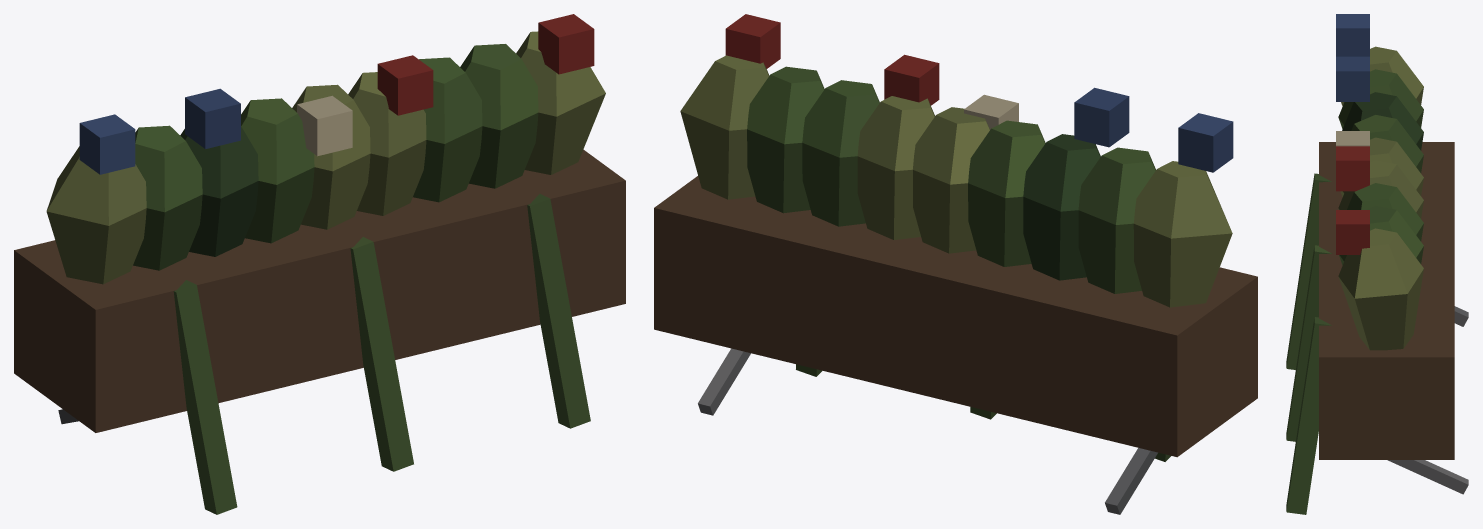
Rendered from walk_prop_flowers.glb.
3 renders of one model, left to right at view 1: azimuth 30°, elevation 25°; view 2: azimuth 150°, elevation 25°; view 3: azimuth 270°, elevation 25°, orthographic. The views are drawn at different scales.
Visible parts, largest first — view 1: walk_prop_flowers; view 2: walk_prop_flowers; view 3: walk_prop_flowers.
Boxes of the visible parts, x1,y1,x2,y2 form: walk_prop_flowers: [14, 14, 625, 514]; walk_prop_flowers: [654, 14, 1257, 514]; walk_prop_flowers: [1286, 14, 1468, 514].
Size of the model in its own units: 0.9228 by 0.6156 by 0.3225.
2 materials, 2 textured.
